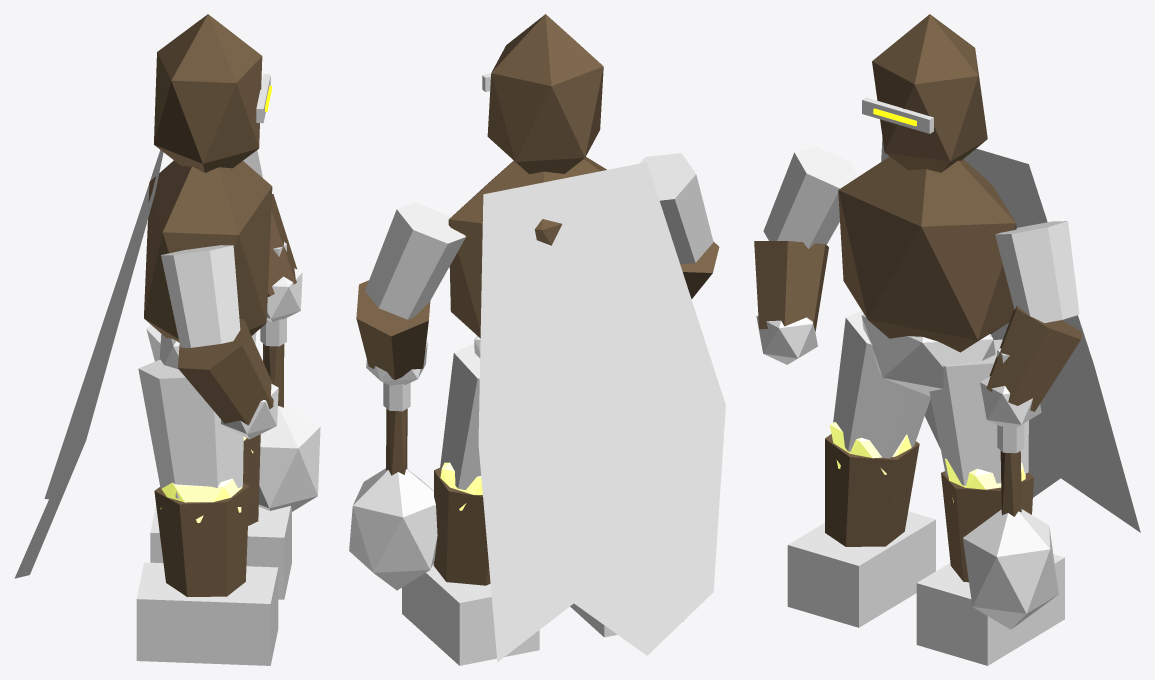
The model's file is fighter-mace-cloth.glb.
The picture shows the model from 3 angles, left to right: view 1: azimuth 30°, elevation 25°; view 2: azimuth 150°, elevation 25°; view 3: azimuth 270°, elevation 25°; orthographic projection.
Visible parts, largest first — view 1: Breastplate.005, Closed helm.005, Armored boot.010, Thigh.010, Greave.010, Torn crimson mantle.005, Arm.028, Gauntlet.010, Sword mace head, Armored boot.011, Gauntlet.011, Glove.011 (+6 smaller); view 2: Torn crimson mantle.005, Closed helm.005, Sword mace head, Arm.029, Armored boot.011, Breastplate.005, Greave.011, Arm.028, Thigh.011, Gauntlet.011, Sword shaft, Gauntlet.010 (+3 smaller); view 3: Breastplate.005, Torn crimson mantle.005, Closed helm.005, Armored boot.010, Sword mace head, Greave.010, Armored boot.011, Thigh.010, Thigh.011, Arm.029, Arm.028, Gauntlet.011 (+10 smaller).
Boxes of the visible parts, bbox=[...] form: Breastplate.005: bbox=[144, 160, 272, 342]; Closed helm.005: bbox=[154, 14, 262, 172]; Armored boot.010: bbox=[136, 562, 278, 665]; Thigh.010: bbox=[138, 359, 243, 498]; Greave.010: bbox=[154, 483, 249, 596]; Torn crimson mantle.005: bbox=[14, 150, 163, 578]; Arm.028: bbox=[161, 245, 240, 347]; Gauntlet.010: bbox=[178, 319, 273, 425]; Sword mace head: bbox=[258, 403, 320, 511]; Armored boot.011: bbox=[150, 505, 291, 599]; Gauntlet.011: bbox=[267, 194, 297, 296]; Glove.011: bbox=[267, 268, 302, 322]; Torn crimson mantle.005: bbox=[478, 162, 725, 661]; Closed helm.005: bbox=[487, 14, 603, 174]; Sword mace head: bbox=[349, 468, 437, 590]; Arm.029: bbox=[365, 202, 465, 319]; Armored boot.011: bbox=[402, 563, 539, 665]; Breastplate.005: bbox=[448, 157, 606, 338]; Greave.011: bbox=[433, 468, 490, 585]; Arm.028: bbox=[639, 153, 713, 264]; Thigh.011: bbox=[440, 343, 481, 490]; Gauntlet.011: bbox=[356, 280, 430, 379]; Sword shaft: bbox=[386, 408, 407, 475]; Gauntlet.010: bbox=[680, 241, 719, 298]; Breastplate.005: bbox=[838, 156, 1016, 352]; Torn crimson mantle.005: bbox=[881, 137, 1140, 532]; Closed helm.005: bbox=[872, 14, 987, 172]; Armored boot.010: bbox=[787, 511, 935, 627]; Sword mace head: bbox=[963, 509, 1058, 629]; Greave.010: bbox=[825, 434, 919, 546]; Armored boot.011: bbox=[916, 554, 1064, 665]; Thigh.010: bbox=[833, 310, 930, 458]; Thigh.011: bbox=[929, 339, 1028, 485]; Arm.029: bbox=[995, 221, 1079, 322]; Arm.028: bbox=[763, 146, 858, 248]; Gauntlet.011: bbox=[986, 306, 1081, 411].
Size of the model in its own units: 1.77 by 3.19 by 1.87.
